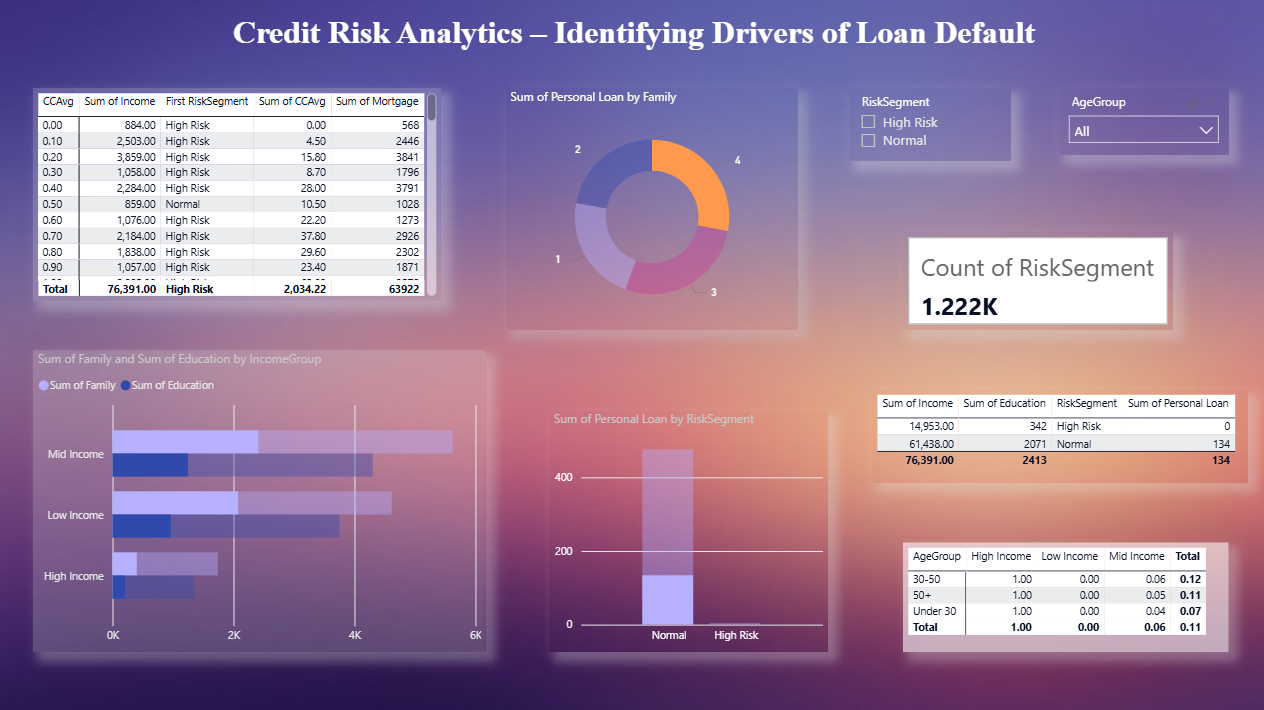

The page's visual inventory and layout, read from the dashboard file:
{"tool":"powerbi","page":{"name":"Page 1","canvas":[1280,720],"ordinal":0},"visuals":[{"type":"pivotTable","fields":{"Rows":["Data.AgeGroup"],"Columns":["Data.IncomeGroup"],"Values":["Avg(Data.Personal Loan)"]},"box":[912.1,550,328.8,110.6],"z":0},{"type":"clusteredBarChart","fields":{"Category":["Data.IncomeGroup","Data.Personal Loan"],"Y":["Sum(Data.Family)","Sum(Data.Education)"]},"box":[33.3,356.1,457.6,304.5],"z":1},{"type":"donutChart","fields":{"Category":["Data.Family"],"Y":["Sum(Data.Personal Loan)"]},"box":[510.6,90.9,295.5,243.9],"z":2},{"type":"clusteredColumnChart","fields":{"Category":["Data.RiskSegment"],"Y":["Sum(Data.Personal Loan)"]},"box":[554.5,416.7,281.8,243.9],"z":3},{"type":"tableEx","fields":{"Values":["Sum(Data.Income)","Sum(Data.Education)","Data.RiskSegment","Sum(Data.Personal Loan)"]},"box":[880.3,395.5,380.3,93.9],"z":4},{"type":"slicer","fields":{"Values":["Data.AgeGroup"]},"box":[1069.7,90.9,171.2,68.2],"z":5},{"type":"slicer","fields":{"Values":["Data.RiskSegment"]},"box":[857.6,90.9,163.6,74.2],"z":6},{"type":"cardVisual","fields":{"Data":["CountNonNull(Data.RiskSegment)"]},"box":[912.1,236.4,272.7,98.5],"z":7},{"type":"pivotTable","fields":{"Values":["Sum(Data.Income)","Min(Data.RiskSegment)","Sum(Data.CCAvg)","Sum(Data.Mortgage)"],"Rows":["Data.CCAvg","Data.Income","Data.Mortgage","Data.RiskSegment"]},"box":[33.3,90.9,412.1,215.2],"z":8},{"type":"textbox","box":[0,10.6,1280.3,60.6],"z":9}]}

Visuals, with their boxes in screenshot pixels (x1, y1, x2, y2), scaled from the page's 1280x720 canvas onto the 1264x710 screenshot:
pivotTable - Data.AgeGroup x Data.IncomeGroup: [901,542,1225,651]
clusteredBarChart - Data.IncomeGroup x Data.Personal Loan: [33,351,485,651]
donutChart - Data.Family x Sum(Data.Personal Loan): [504,90,796,330]
clusteredColumnChart - Data.RiskSegment x Sum(Data.Personal Loan): [548,411,826,651]
tableEx - Sum(Data.Income) x Sum(Data.Education): [869,390,1245,483]
slicer - Data.AgeGroup: [1056,90,1225,157]
slicer - Data.RiskSegment: [847,90,1008,163]
cardVisual - CountNonNull(Data.RiskSegment): [901,233,1170,330]
pivotTable - Sum(Data.Income) x Min(Data.RiskSegment): [33,90,440,302]
textbox: [0,10,1263,70]
